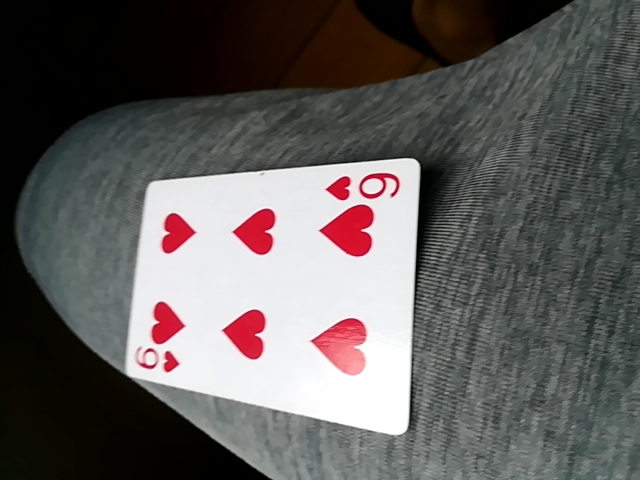hx 6: (126, 157, 422, 436)
